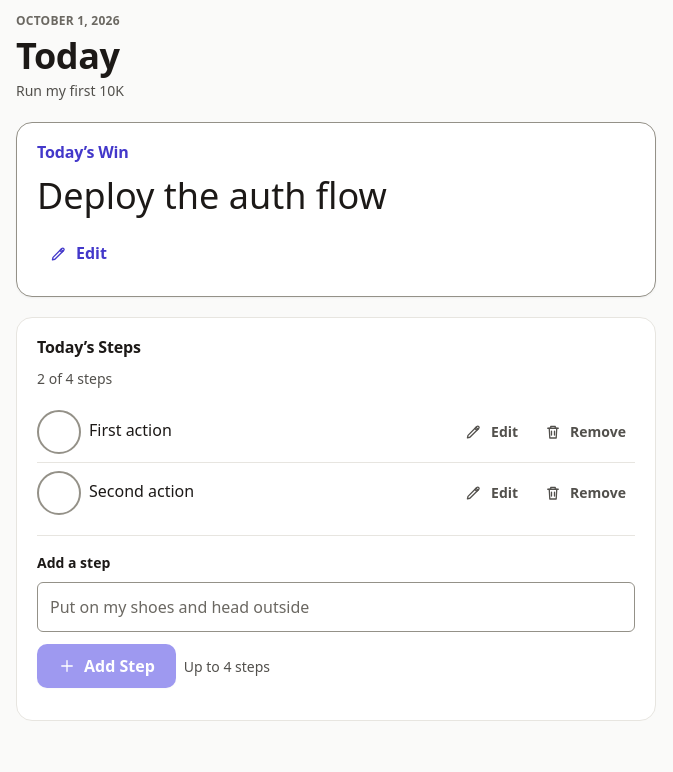
Today Daily Step completion UI › shows persistence feedback when completion cannot be saved
Step 1. Click the checkbox named "complete step 1" → [59, 432], box [37,410,81,454]
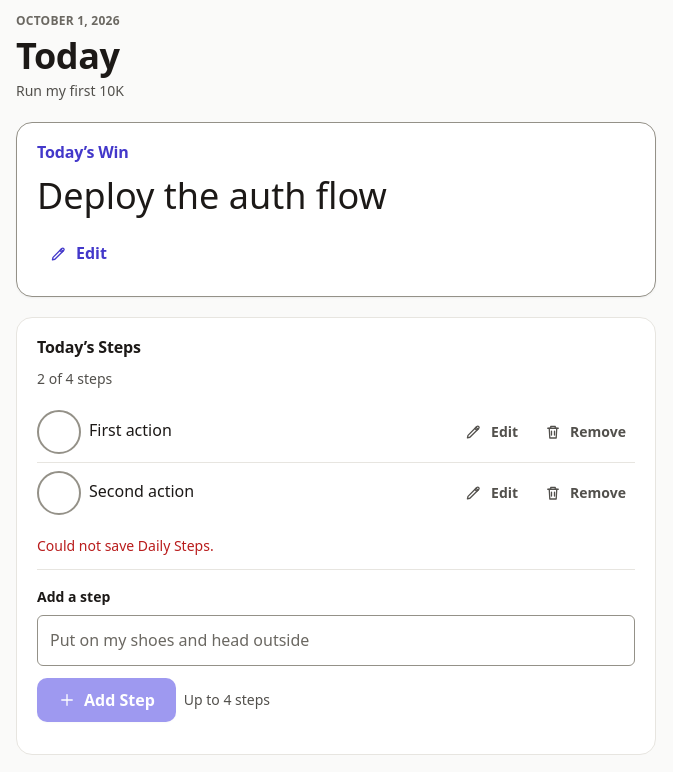
Now the message reads "Could not save Daily Steps.", box [37,536,214,555]
